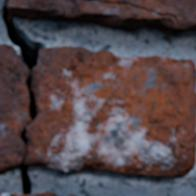brick: (7, 0, 195, 34), (32, 192, 55, 195), (0, 193, 22, 195)
broken_brick: (24, 46, 195, 178), (0, 44, 28, 174)
crack: (0, 0, 51, 195), (84, 0, 185, 27)
